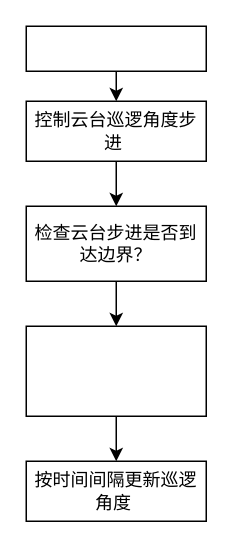
The diagram is 233 pixels wide and 548 high, and some of its shapes have lost their labels. The shapes that lost their labels are listed below. From the top down, each one's centre as x and y in pixels, then its label:
At (115,48): "初始化巡逻模式".
At (115,370): "达到步进的最大值或最小值切换运动方向".
